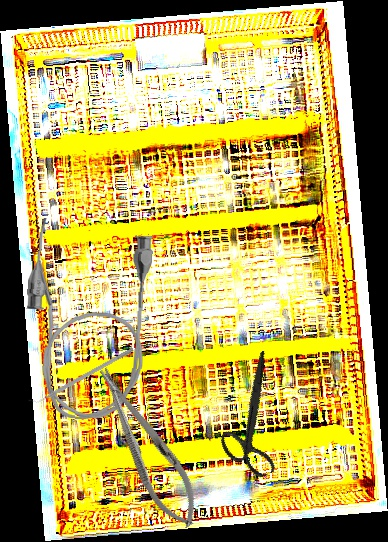Cannula: (20, 216, 155, 423)
Chopper: (26, 342, 135, 408)
Iris Scissors: (192, 349, 315, 488)
Needle Holder: (83, 357, 212, 537)
